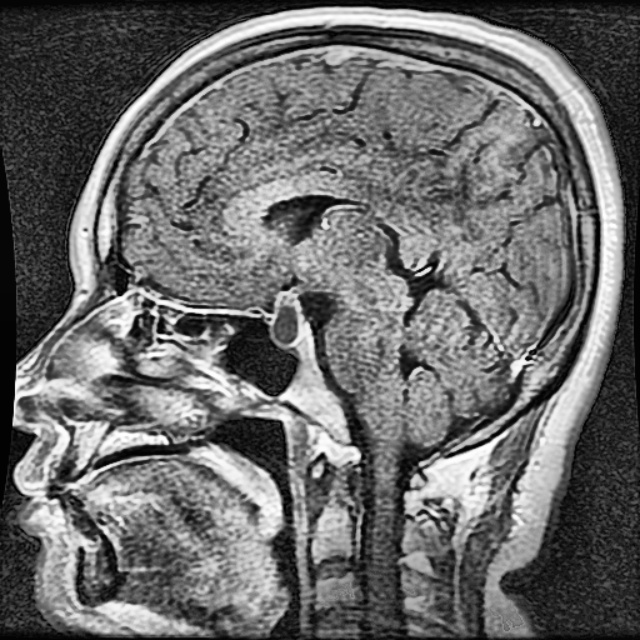Pituitary: (268, 289, 309, 347)
